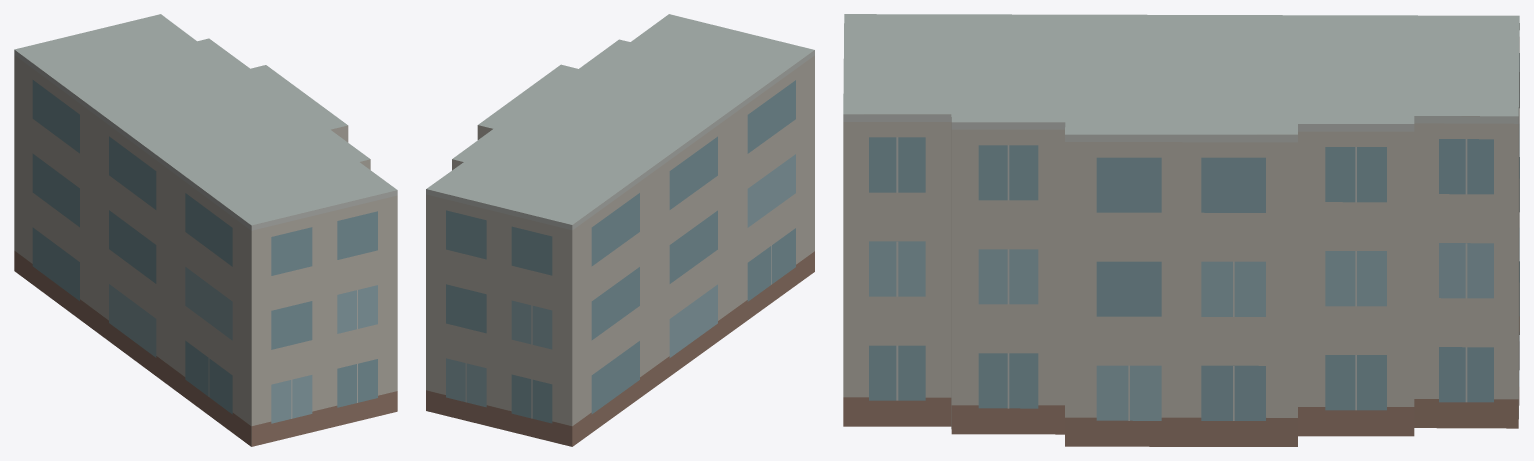
File: survey-upis-32735232.glb
3 views of the same model, side by side, from view 1: azimuth 30°, elevation 25°; view 2: azimuth 150°, elevation 25°; view 3: azimuth 270°, elevation 25° (orthographic). The views are drawn at different scales.
Visible parts, largest first — view 1: survey-upis-32735232.tmp; view 2: survey-upis-32735232.tmp; view 3: survey-upis-32735232.tmp.
Boxes of the visible parts, x1,y1,x2,y2 form: survey-upis-32735232.tmp: (14,14,397,446); survey-upis-32735232.tmp: (426,14,814,446); survey-upis-32735232.tmp: (843,14,1519,446).
Bounding box in the file's own units: 8.39 × 10.1 × 19.85.
